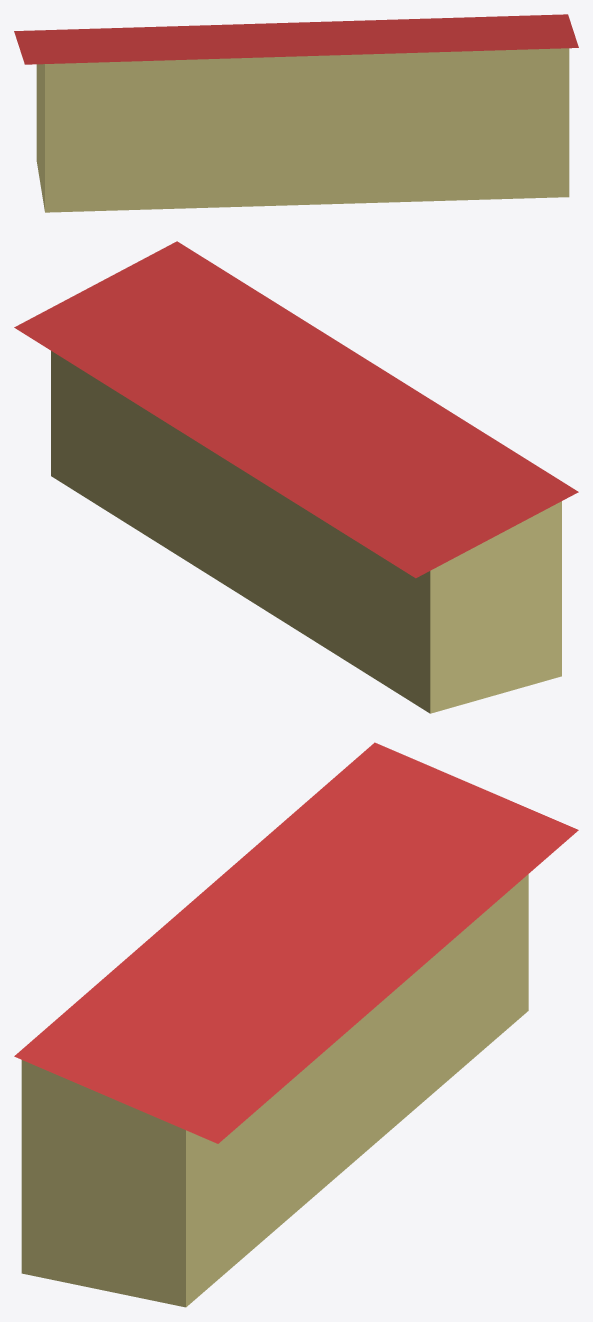
The picture shows the model from 3 angles, top to bottom: view 1: azimuth 30°, elevation 25°; view 2: azimuth 150°, elevation 25°; view 3: azimuth 270°, elevation 25°; orthographic projection. The views are drawn at different scales.
Bounding box in the file's own units: 24.92 × 16.72 × 7.26.
